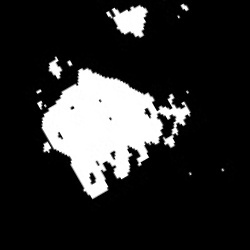pinhole: (181, 5, 188, 10), (190, 171, 194, 176), (222, 167, 225, 171)
spot: (35, 57, 191, 200), (106, 6, 146, 37)
